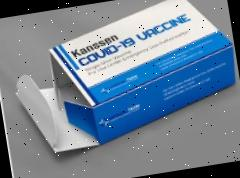paper: (5, 0, 240, 157)
